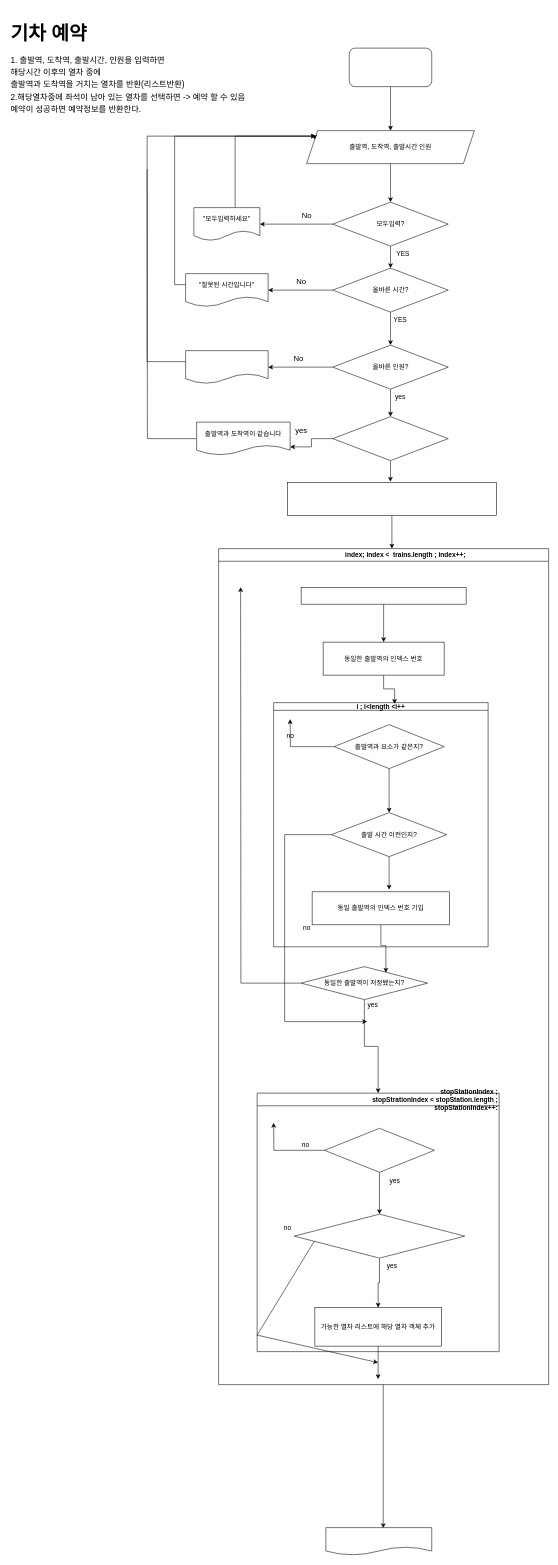
Some shapes in this 558 by 1565 pixel diagram are drawn without their labels. Each missing label, with the centre of its shape:
"잘못된 인원입니다": the point at 226,367
가능한 열차 정보를 저장할 리스트 생성: the point at 391,499
가능한 열차리스트: the point at 378,1541
같은 역?: the point at 390,438
도착역 인덱스가 출발역 인덱스보다 큰지?: the point at 379,1236
도착역과 요소가 같은지: the point at 379,1150
시작: the point at 390,67
해당 인덱스 요소의 정착역 리스트 가져오기: the point at 383,595
